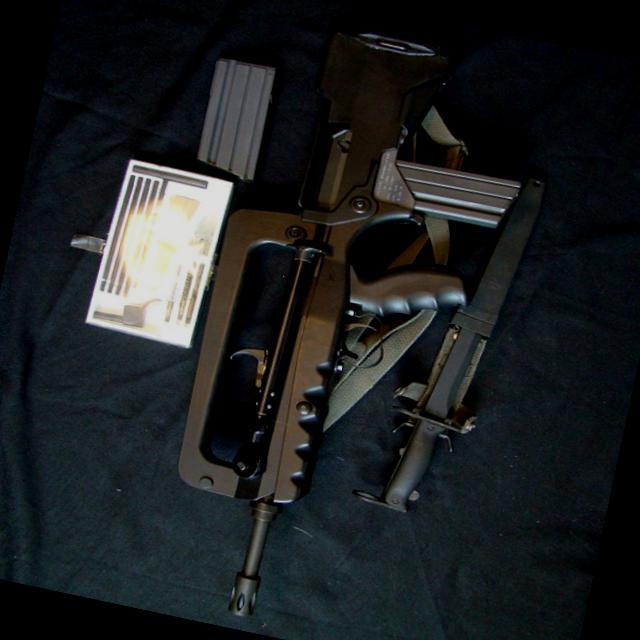long weapon: (116, 0, 534, 639)
